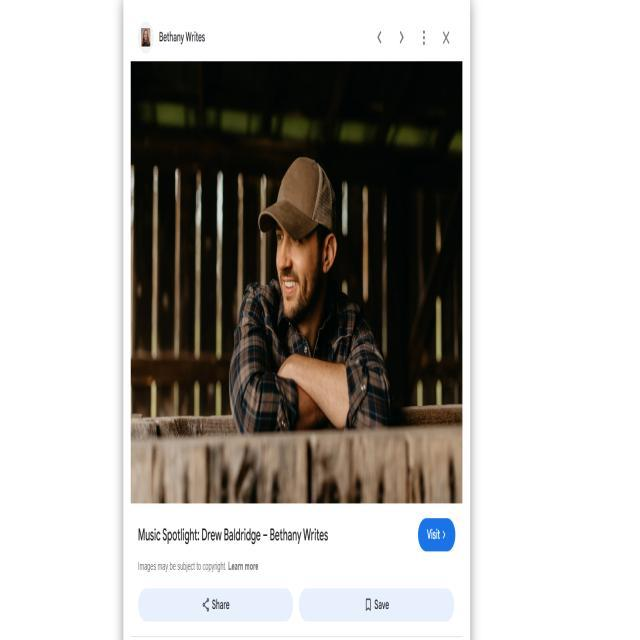face_no_mask: (271, 213, 338, 318)
